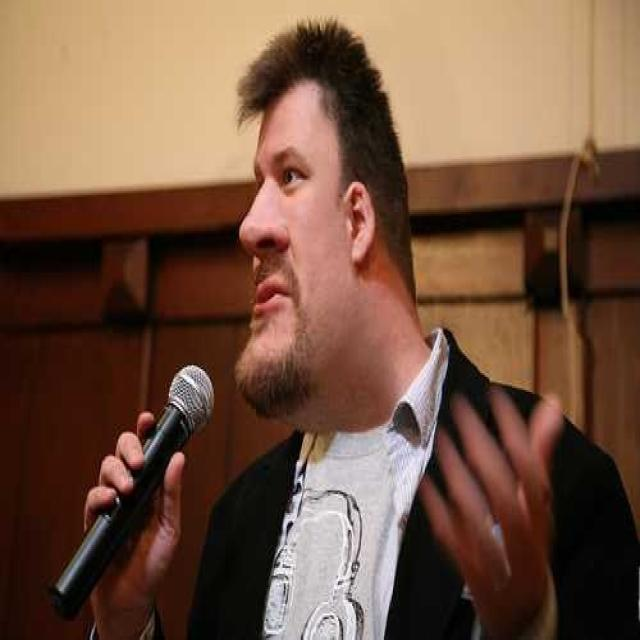microphone: (48, 361, 216, 620)
